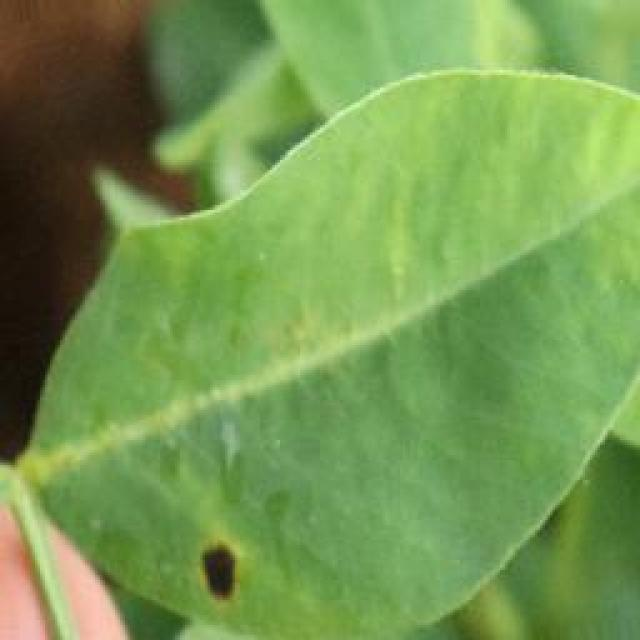Sigatoka: (154, 513, 272, 630)
